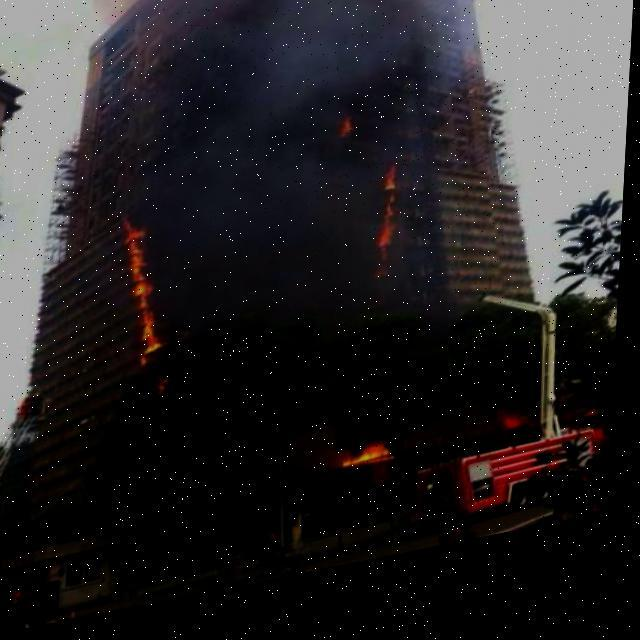Fire: (110, 214, 178, 394), (371, 175, 407, 294), (347, 454, 402, 490), (332, 125, 356, 157)
